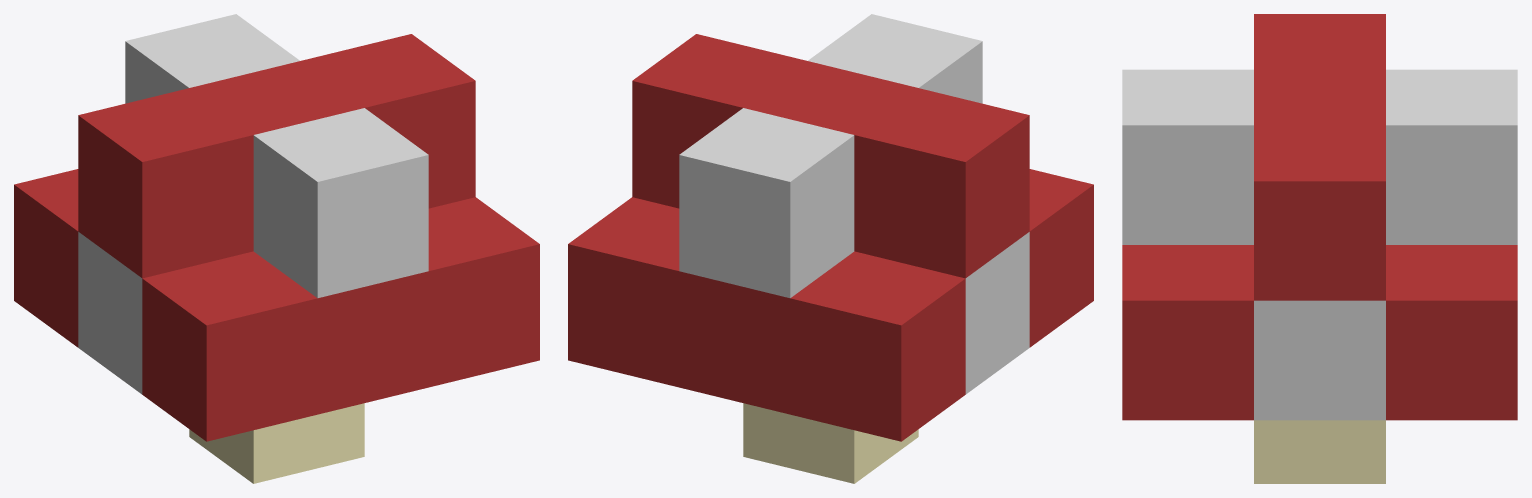
The model's file is Mushroom1_S.obj.
3 views of the same model, side by side, from view 1: azimuth 30°, elevation 25°; view 2: azimuth 150°, elevation 25°; view 3: azimuth 270°, elevation 25° (orthographic). The views are drawn at different scales.
Parts seen in each view (by area): view 1: Mushroom1_S; view 2: Mushroom1_S; view 3: Mushroom1_S.
Boxes of the visible parts, bbox=[...] form: Mushroom1_S: bbox=[14, 14, 539, 483]; Mushroom1_S: bbox=[568, 14, 1093, 483]; Mushroom1_S: bbox=[1122, 14, 1517, 483].
Bounding box in the file's own units: 0.3 × 0.3 × 0.3.
1 material, 1 textured.
